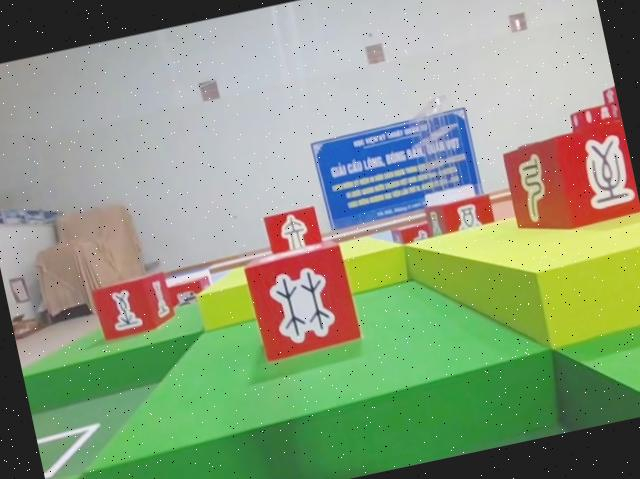R1: (160, 269, 215, 315)
R2 Fake: (495, 116, 640, 242), (258, 201, 325, 266)
R2 Real: (237, 235, 366, 365), (87, 267, 179, 344), (419, 189, 499, 247)
